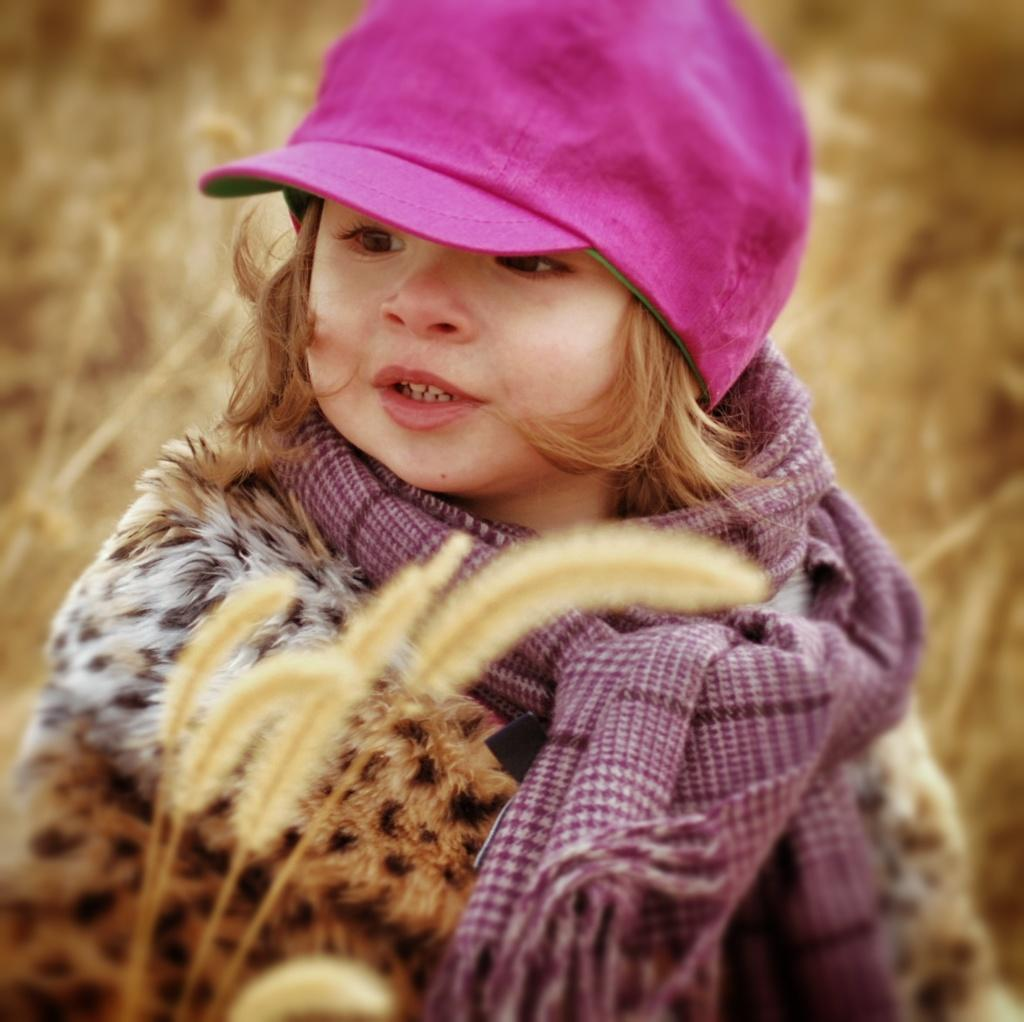Hat: (201, 0, 814, 410)
